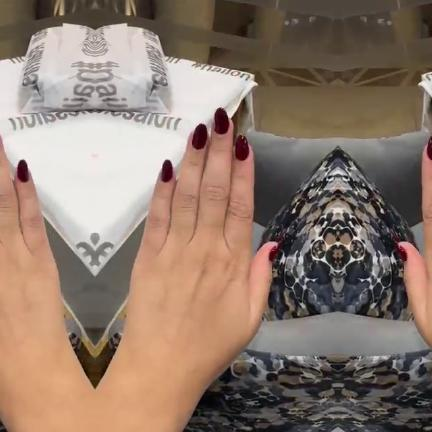Nail: (213, 107, 228, 135), (191, 123, 206, 150), (234, 134, 247, 161), (267, 239, 282, 261), (392, 239, 407, 261), (160, 159, 172, 183), (16, 159, 28, 183), (427, 134, 432, 161)
